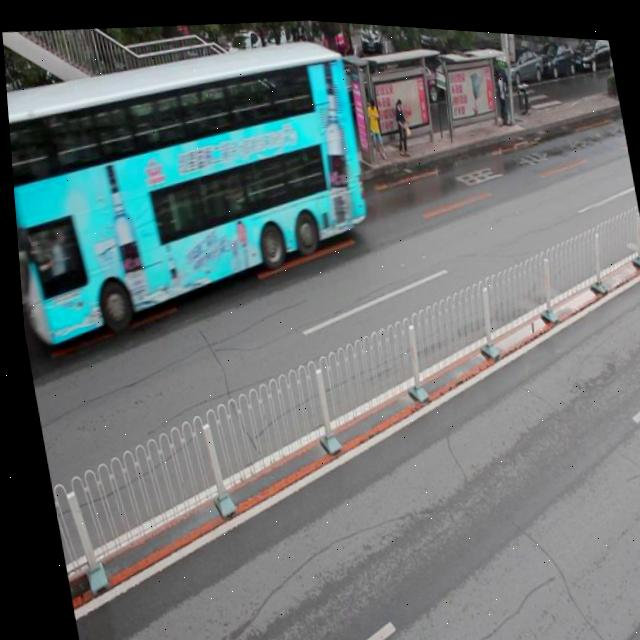car: (26, 114, 130, 201), (123, 95, 230, 169), (297, 55, 388, 130), (190, 102, 270, 187), (222, 71, 304, 145), (9, 146, 25, 208)
van: (1, 16, 386, 363)
